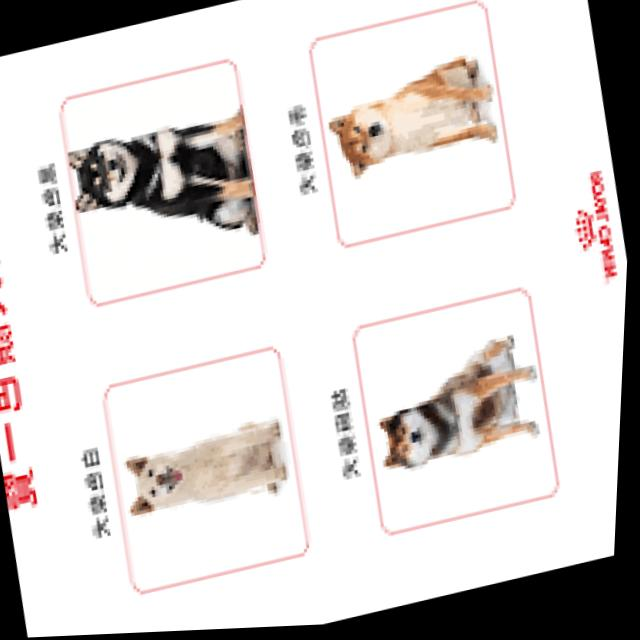Shiba-Inu: (64, 107, 268, 284), (370, 336, 557, 482), (321, 57, 508, 190), (122, 421, 299, 532)
